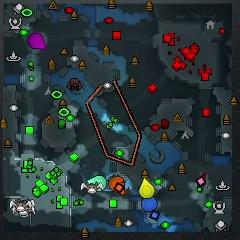p1: (141, 196, 158, 212)
p2: (86, 177, 106, 191)
p3: (29, 34, 46, 51)
p4: (139, 178, 156, 197)
p5: (108, 176, 127, 195)
